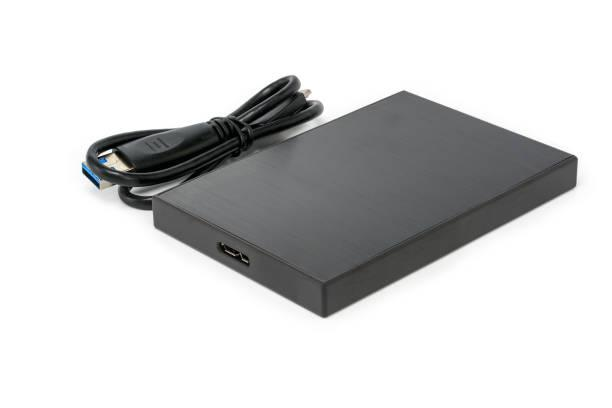HDD: (150, 91, 579, 319)
